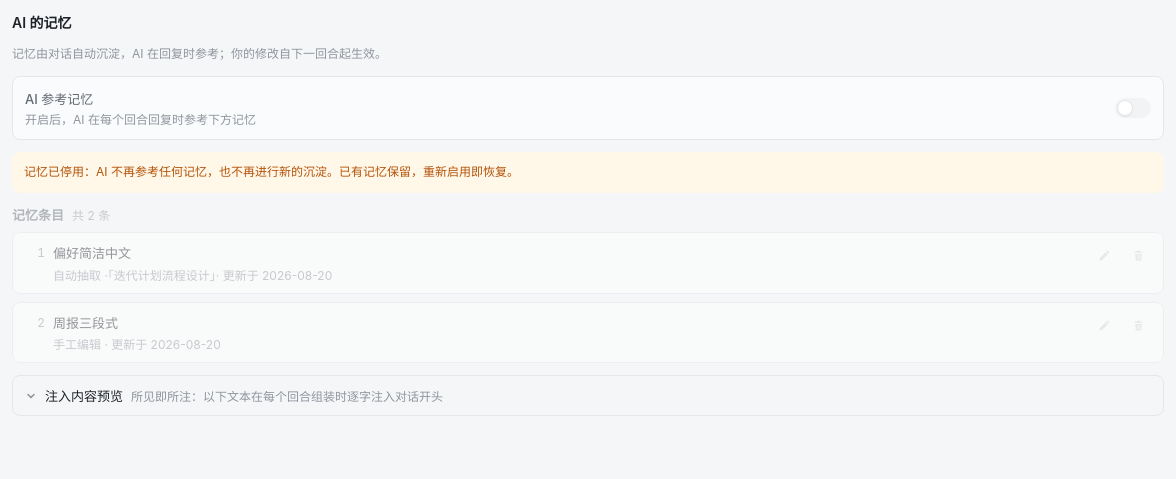
注入预览（定夺⑨逐字同源 + null 分支铁律 5） › 停用分支显 M24 停用句（不呈现注入物）
Click the button with class "mp-head".
click(84, 397)  # box [13, 376, 1163, 415]
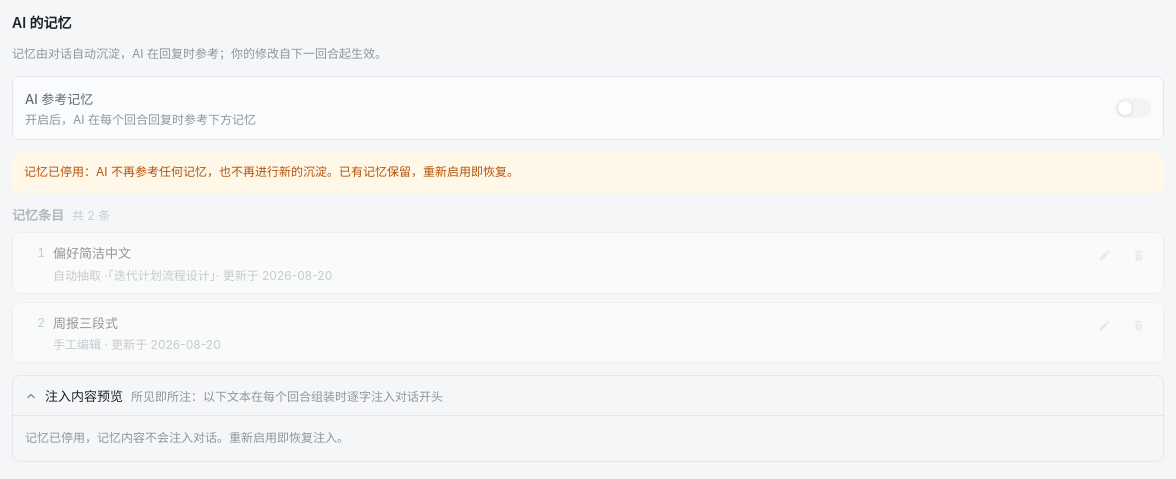
Expected: the text with class "mp-null" reads "记忆已停用，记忆内容不会注入对话。重新启用即恢复注入。", [25, 430, 349, 445]
